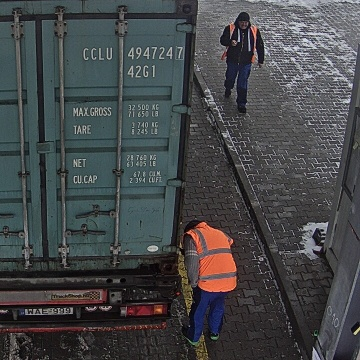serial_id: (83, 47, 183, 60)
